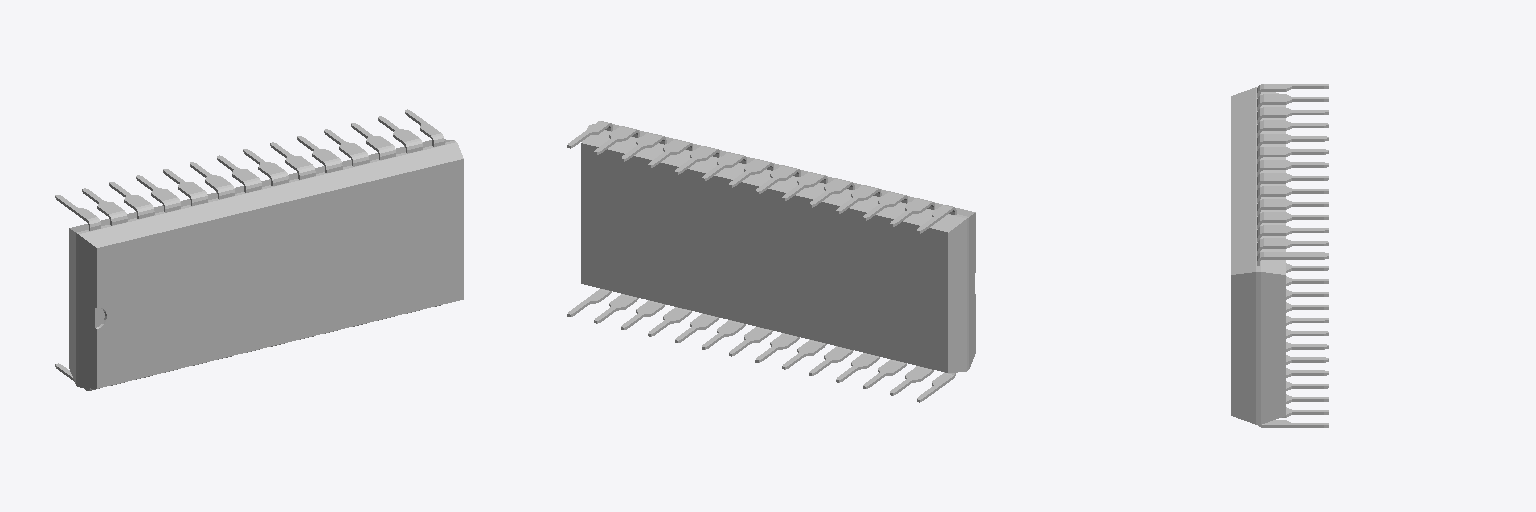
File: DIP-28P-M05.obj
The picture shows the model from 3 angles: view 1: azimuth 30°, elevation 25°; view 2: azimuth 150°, elevation 25°; view 3: azimuth 270°, elevation 25°; orthographic projection.
Visible parts, largest first — view 1: Solid1; view 2: Solid1; view 3: Solid1.
Boxes of the visible parts, x1=… form: Solid1: x1=55, y1=109, x2=463, y2=390; Solid1: x1=567, y1=121, x2=975, y2=402; Solid1: x1=1231, y1=84, x2=1328, y2=427.
Bounding box in the file's own units: 35.8 × 15.49 × 8.